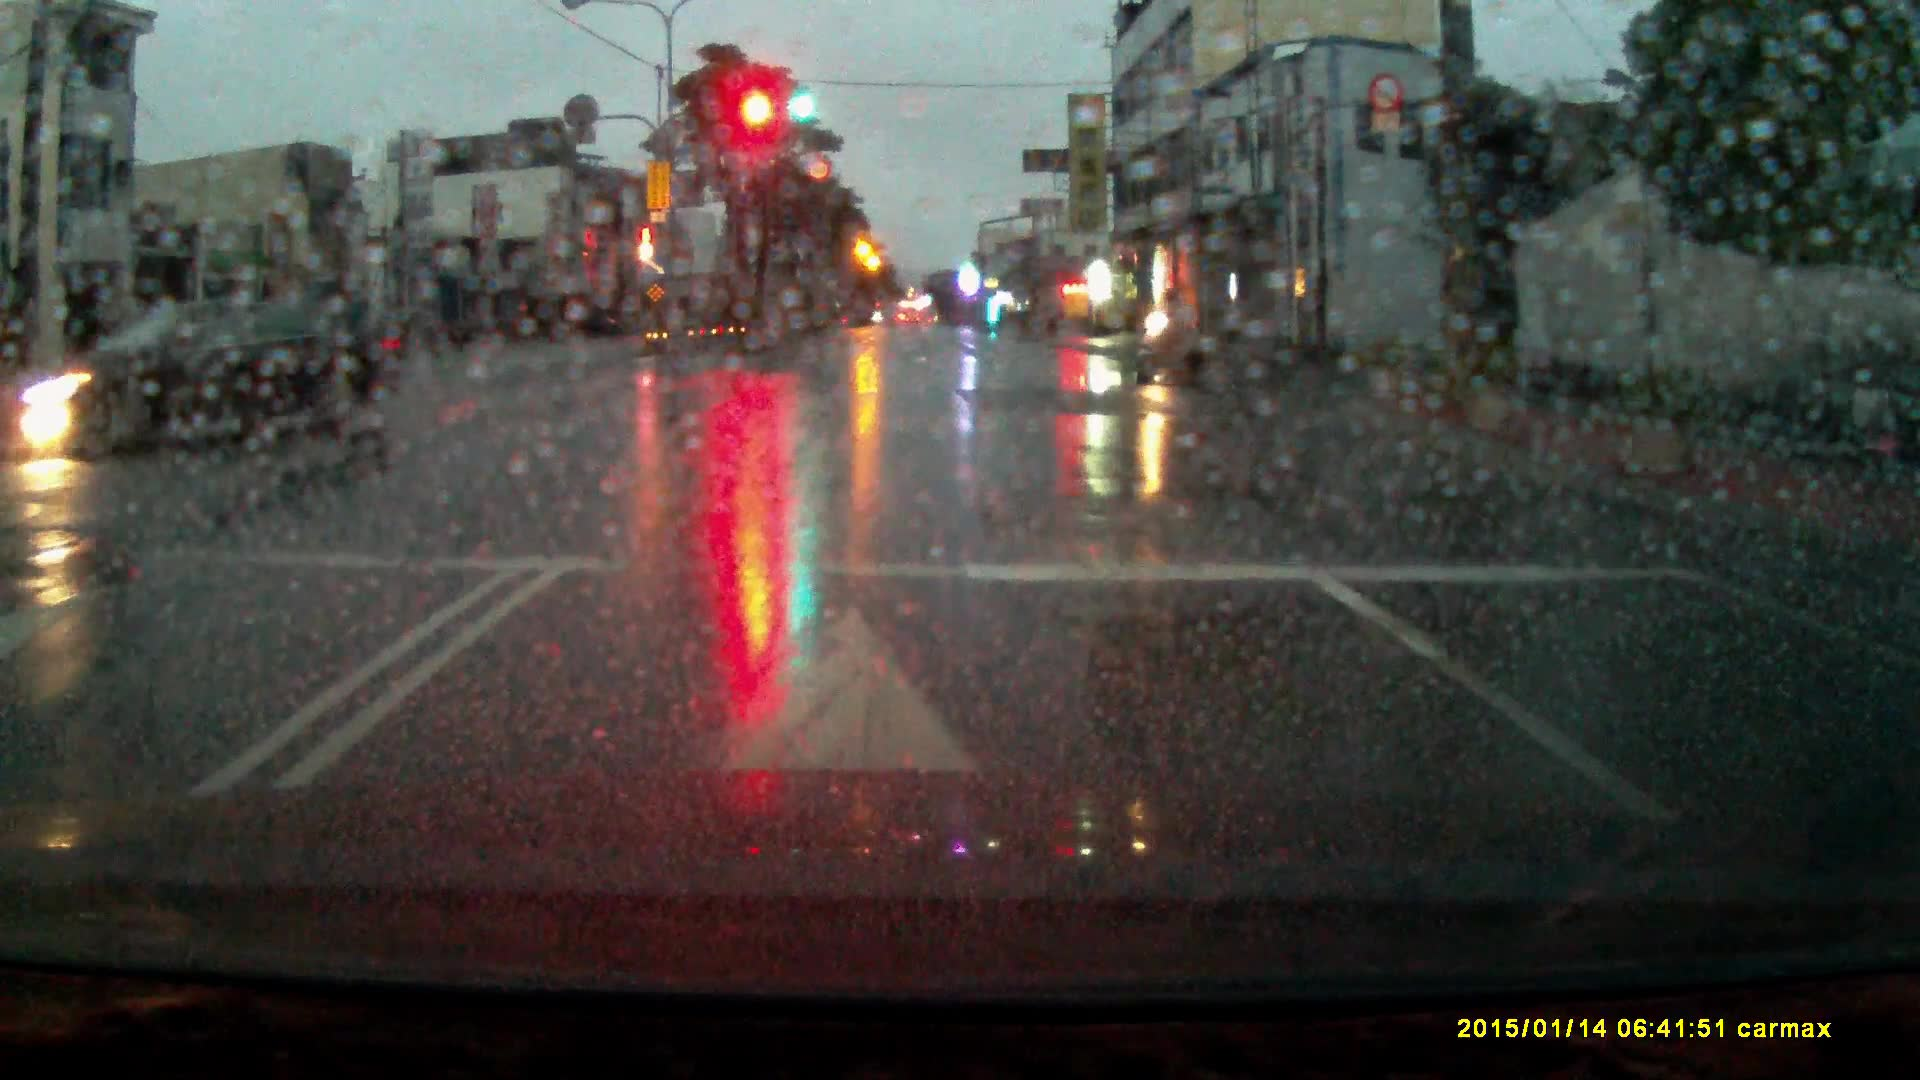rider: (1120, 284, 1207, 375)
vehicle: (27, 293, 376, 463)
